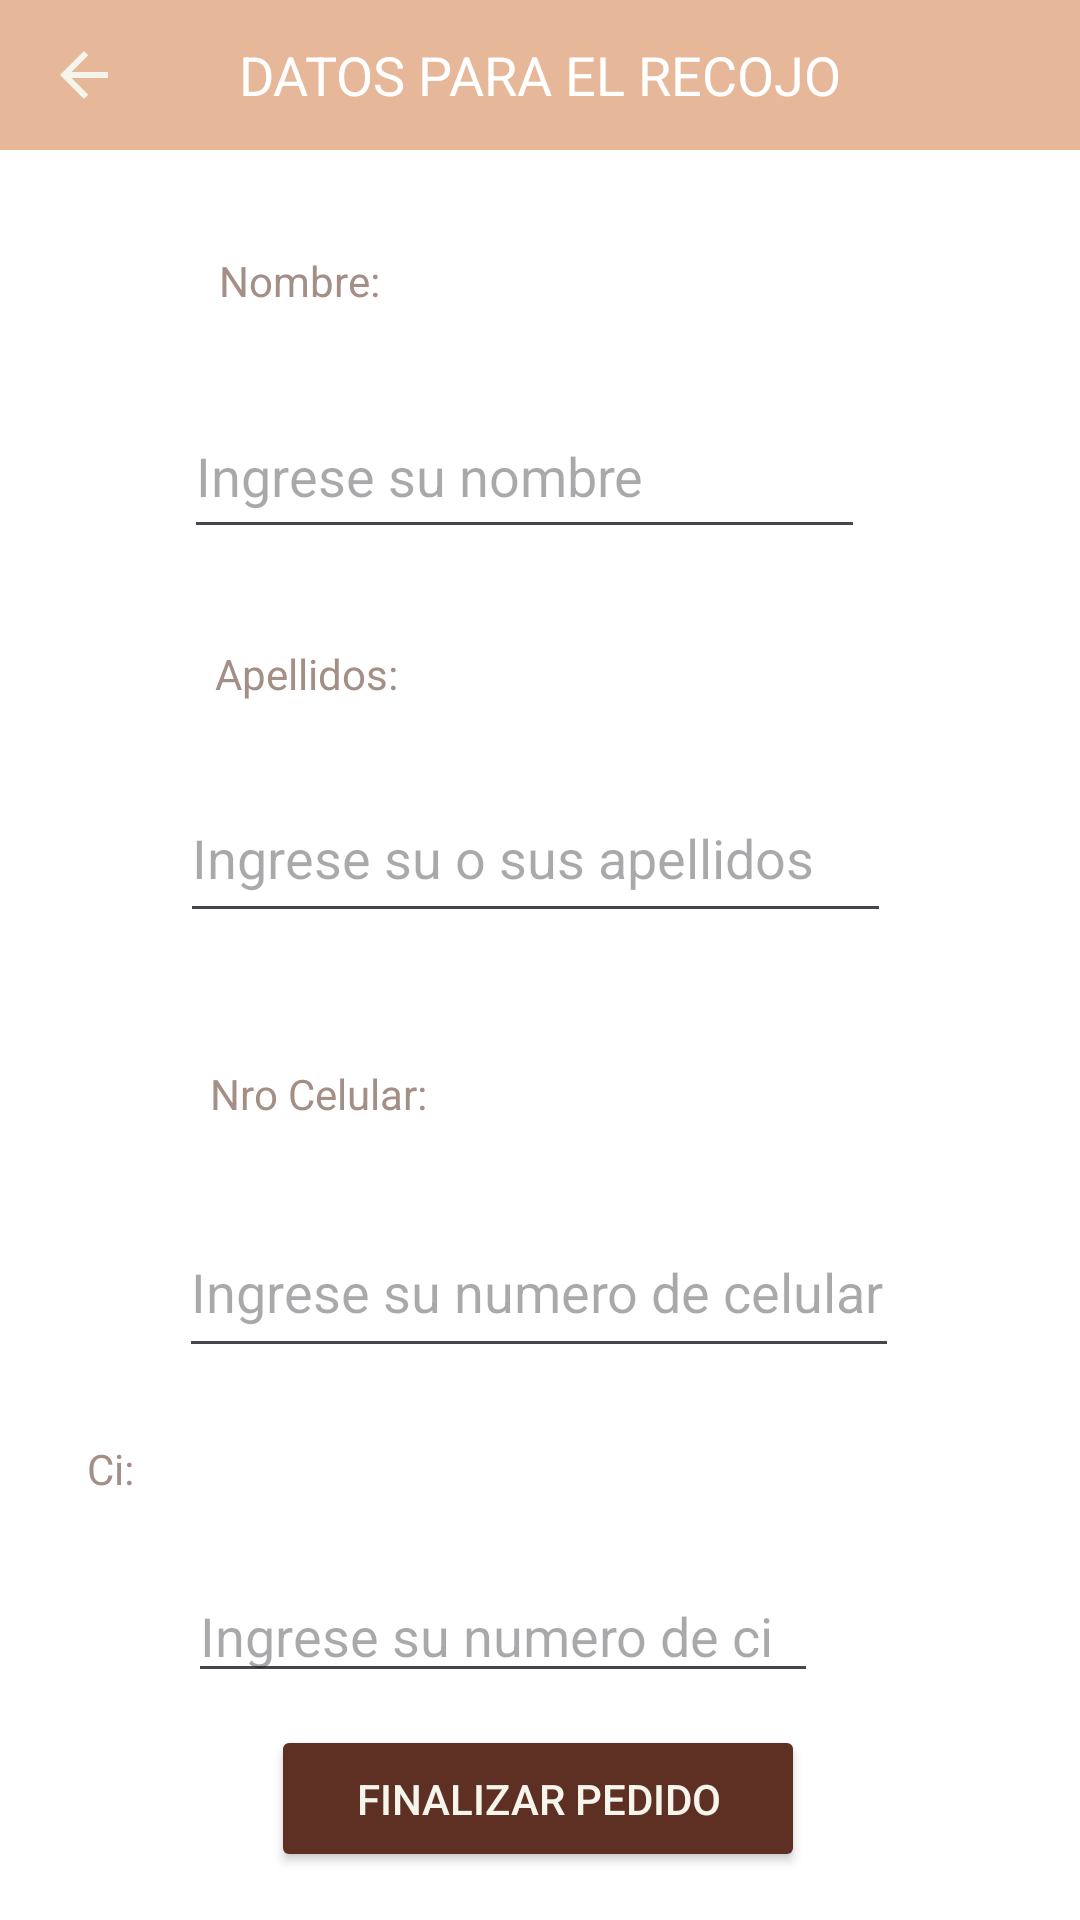

Locate icon controls on the screen. Image size 1080x1920, boxes as (x1, y1, x2, y2).
back activity: (60, 51, 108, 99)
